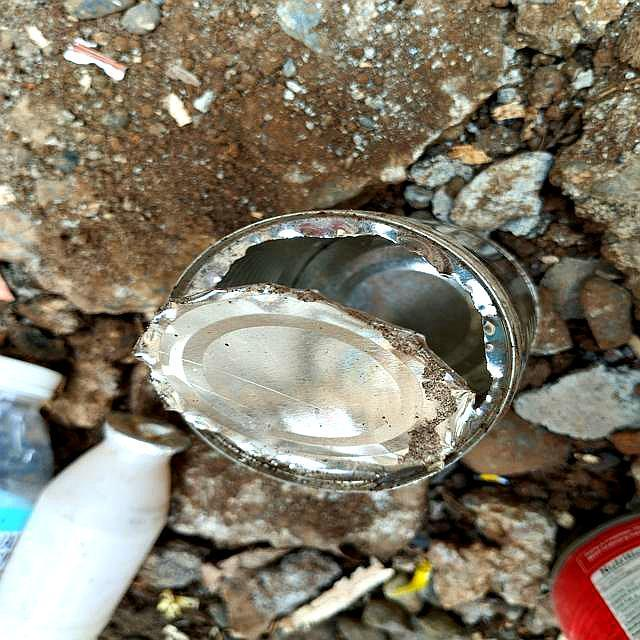Non-biodegradable: (147, 203, 537, 493)
